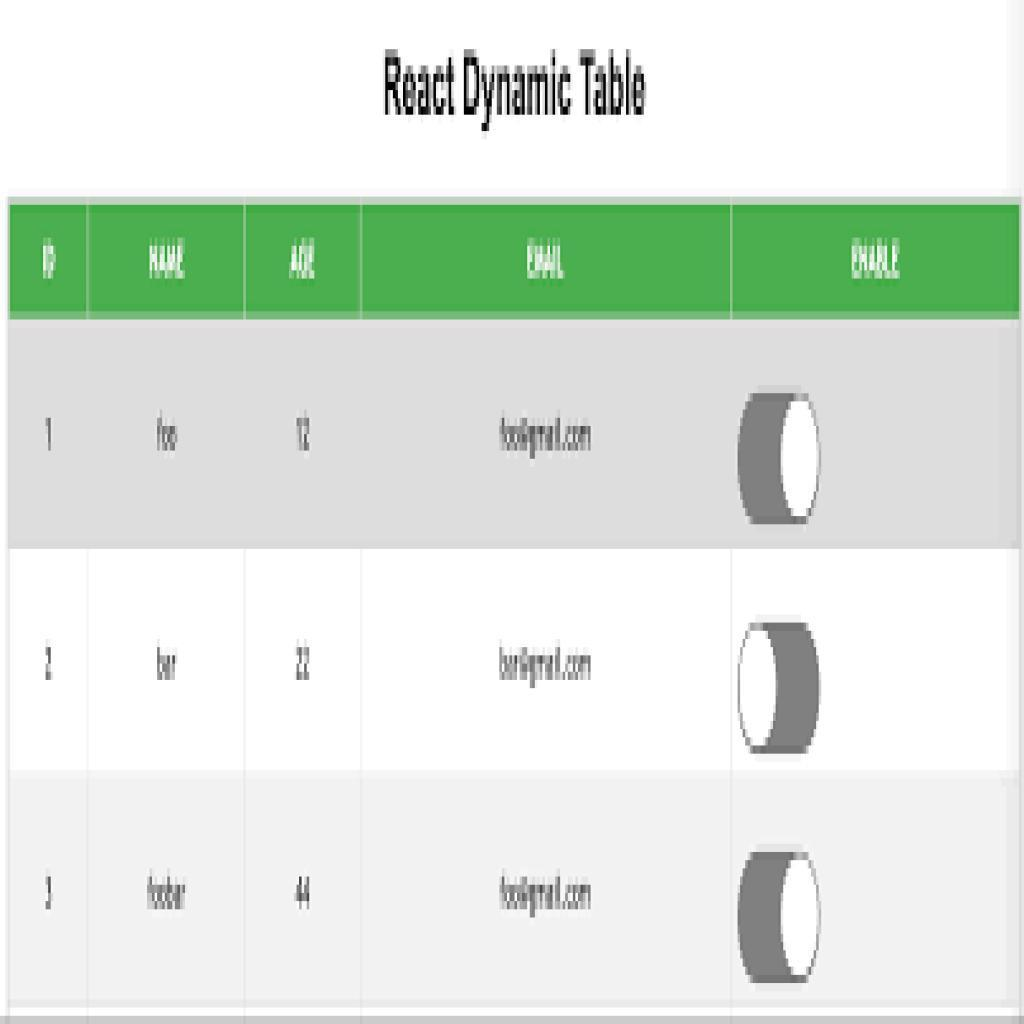switch: (737, 852, 822, 985), (739, 394, 822, 526), (739, 623, 821, 752)
table: (9, 202, 1016, 1004)
